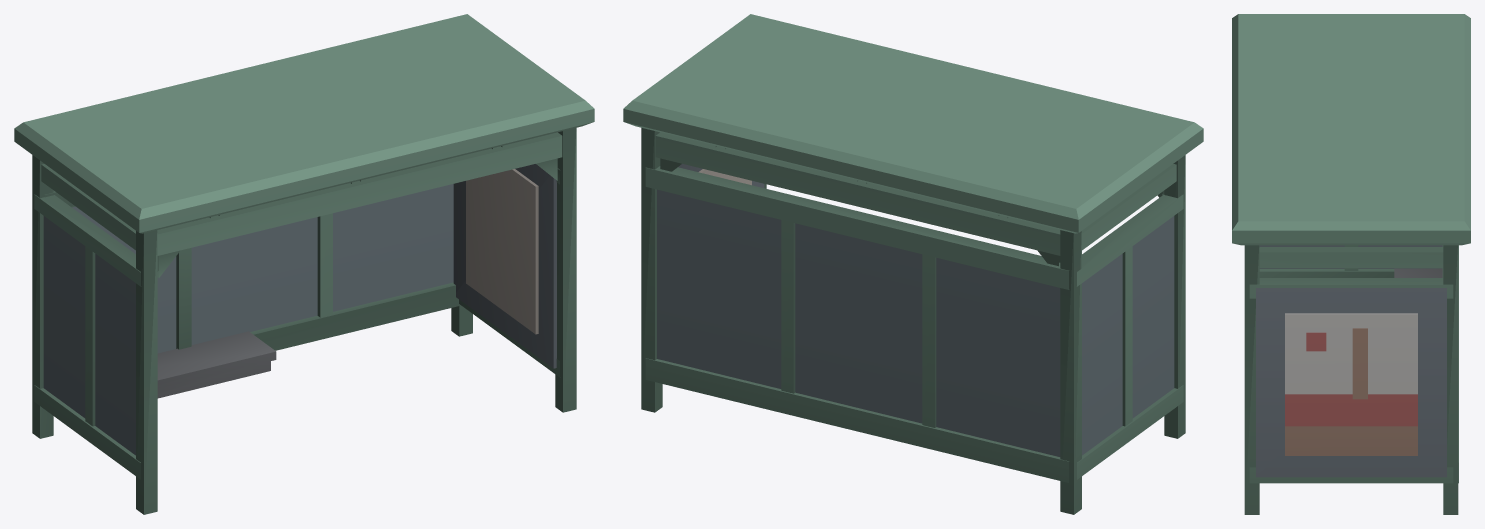
The model's file is shelter.glb.
The picture shows the model from 3 angles, left to right: view 1: azimuth 30°, elevation 25°; view 2: azimuth 150°, elevation 25°; view 3: azimuth 270°, elevation 25°; orthographic projection. The views are drawn at different scales.
Visible parts, largest first — view 1: shelter.001; view 2: shelter.001; view 3: shelter.001.
Part boxes in pixels (<box>): shelter.001: <box>14,14,594,514</box>; shelter.001: <box>623,14,1203,514</box>; shelter.001: <box>1232,14,1470,514</box>.
Bounding box in the file's own units: 4 × 2.6 × 1.9.
